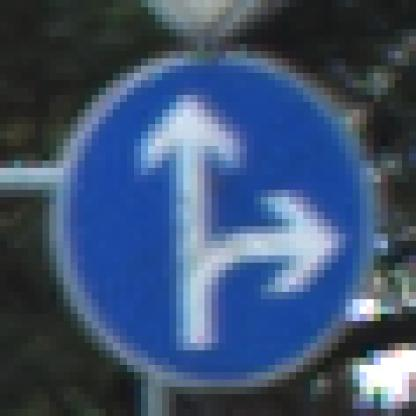Straight or Right: (43, 38, 375, 373)
